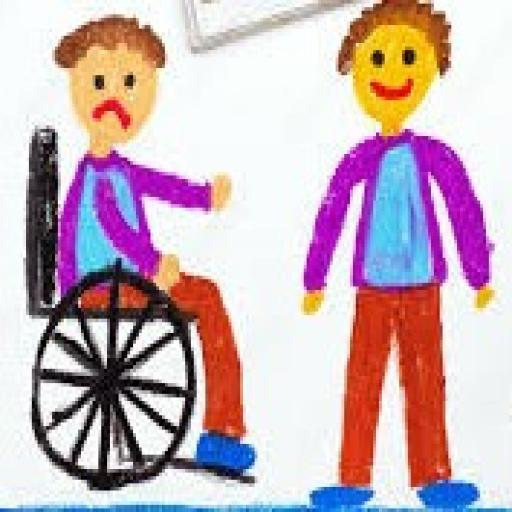person: (8, 3, 283, 512), (301, 0, 512, 512)
